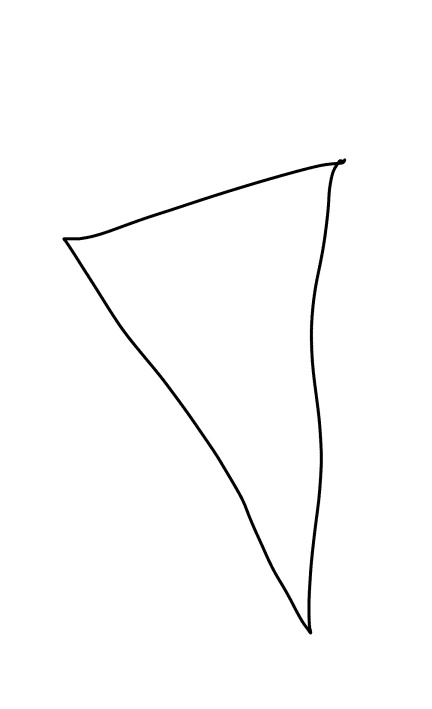Triangle: (58, 156, 351, 638)
